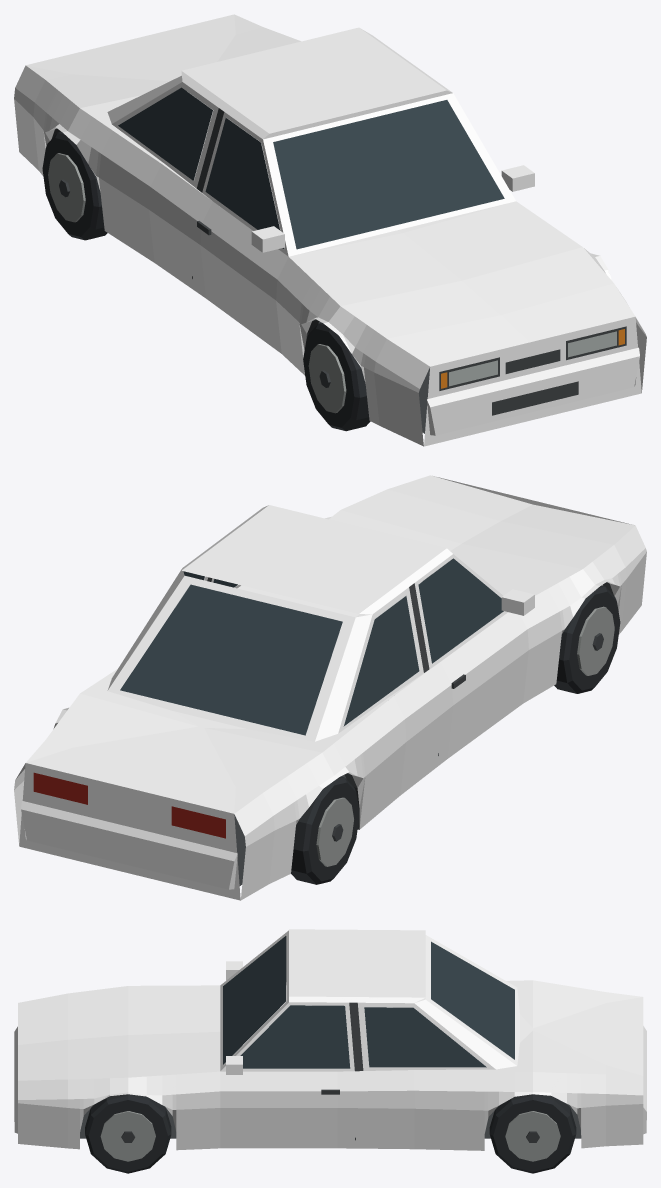
File: sanga_kamui_gt_ii.glb
3 renders of one model, top to bottom at view 1: azimuth 30°, elevation 25°; view 2: azimuth 150°, elevation 25°; view 3: azimuth 270°, elevation 25°, orthographic. The views are drawn at different scales.
Visible parts, largest first — view 1: sanga_kamui_gt_ii; view 2: sanga_kamui_gt_ii; view 3: sanga_kamui_gt_ii.
Part boxes in pixels (x1,y1,x2,y2): sanga_kamui_gt_ii: (14,14,646,446); sanga_kamui_gt_ii: (14,475,646,900); sanga_kamui_gt_ii: (14,929,646,1173).
Bounding box in the file's own units: 1.74 × 1.25 × 4.44.
8 materials, 1 textured.
